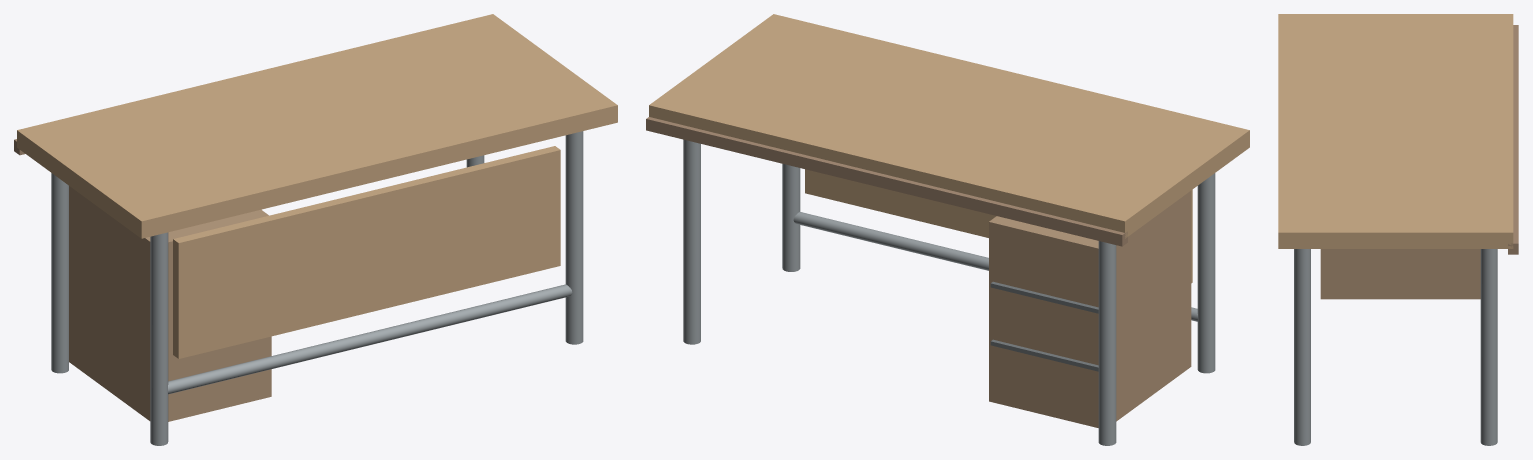
Rendered from teacher-desk-v1.glb.
3 views of the same model, side by side, from view 1: azimuth 30°, elevation 25°; view 2: azimuth 150°, elevation 25°; view 3: azimuth 270°, elevation 25° (orthographic). The views are drawn at different scales.
Visible parts, largest first — view 1: teacher-desk-v1; view 2: teacher-desk-v1; view 3: teacher-desk-v1.
Part boxes in pixels (<box>): teacher-desk-v1: <box>14,14,617,445</box>; teacher-desk-v1: <box>646,14,1249,445</box>; teacher-desk-v1: <box>1278,14,1518,445</box>.
Bounding box in the file's own units: 1.72 × 0.82 × 0.7975.
